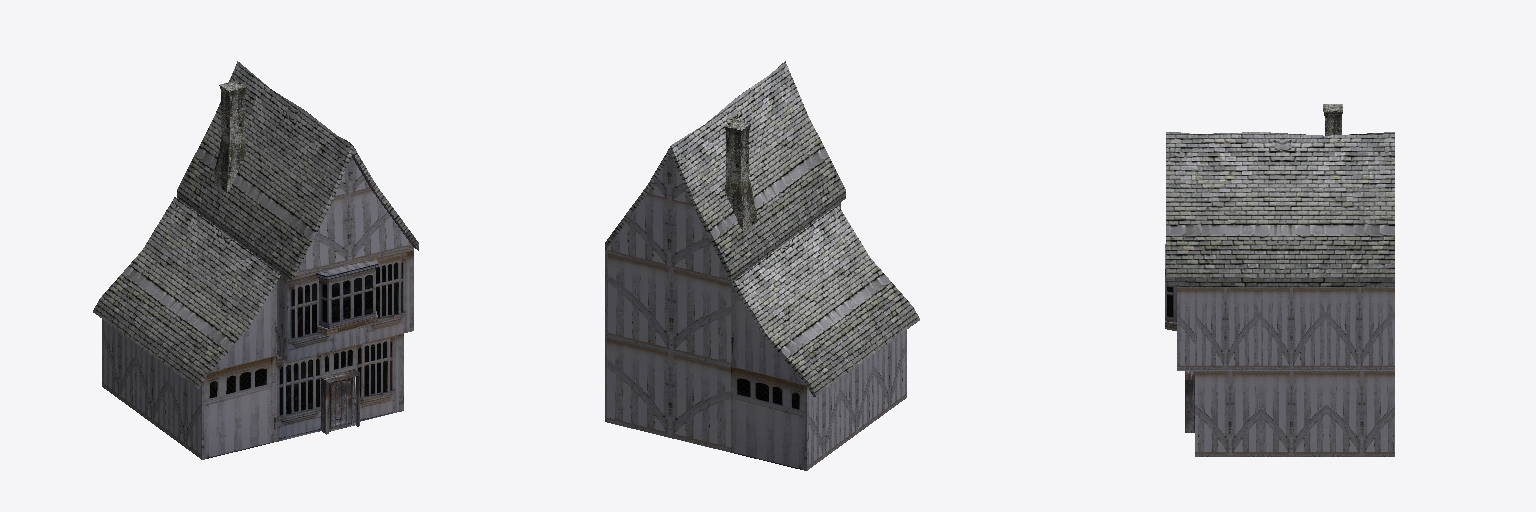
3 renders of one model, left to right at view 1: azimuth 30°, elevation 25°; view 2: azimuth 150°, elevation 25°; view 3: azimuth 270°, elevation 25°, orthographic.
Parts seen in each view (by area): view 1: Group3_Form7, Group3_Form8, Group3_Form9, Form6; view 2: Group3_Form7, Group3_Form9; view 3: Group3_Form7, Form6, Group3_Form9, Group3_Form8.
Part boxes in pixels (bbox=[...]): Group3_Form7: bbox=[93, 61, 418, 459]; Group3_Form8: bbox=[316, 259, 377, 335]; Group3_Form9: bbox=[214, 80, 246, 193]; Form6: bbox=[321, 369, 359, 434]; Group3_Form7: bbox=[605, 61, 919, 470]; Group3_Form9: bbox=[724, 119, 756, 231]; Group3_Form7: bbox=[1166, 132, 1394, 456]; Form6: bbox=[1185, 371, 1194, 432]; Group3_Form9: bbox=[1323, 104, 1342, 135]; Group3_Form8: bbox=[1165, 244, 1176, 330].
Bounding box in the file's own units: 315 × 425 × 297.
Materials: 1 (1 with a texture image).